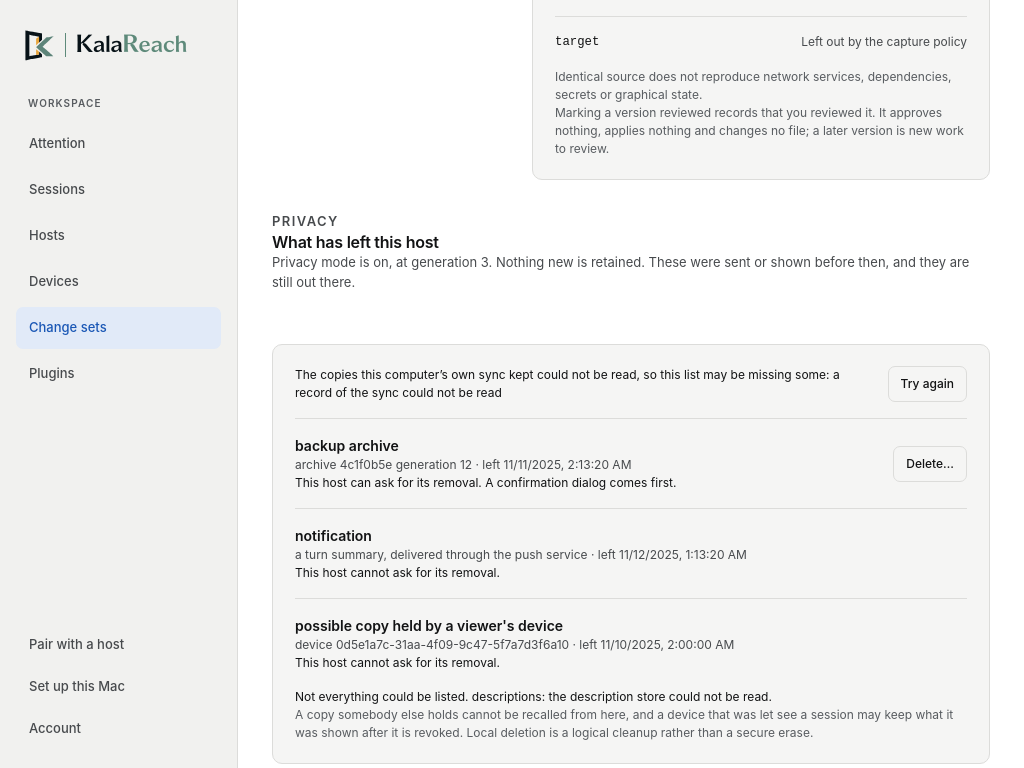
it: the copies this computer’s own sync kept › says so again when reading them again fails again
(page scrolled)
Expected: the number of elements with test id "left-copy" is 3, [295,418,967,508]; [295,508,967,598]; [295,598,967,688]
Click the button "Try again". click: (927,384)
box: [888,366,967,402]
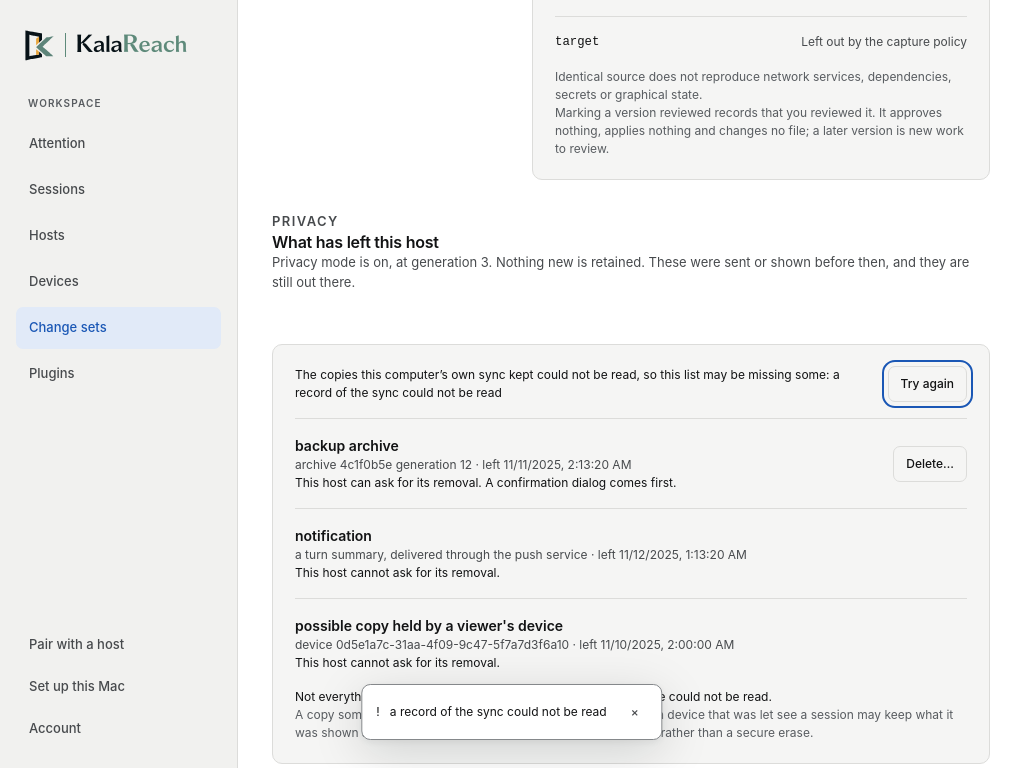
Expected: the element with test id "sync-copies-unread" is shown, [295,366,967,418]
Now the text "a record of the sync could not be read" is shown, box [390,704,607,720]
